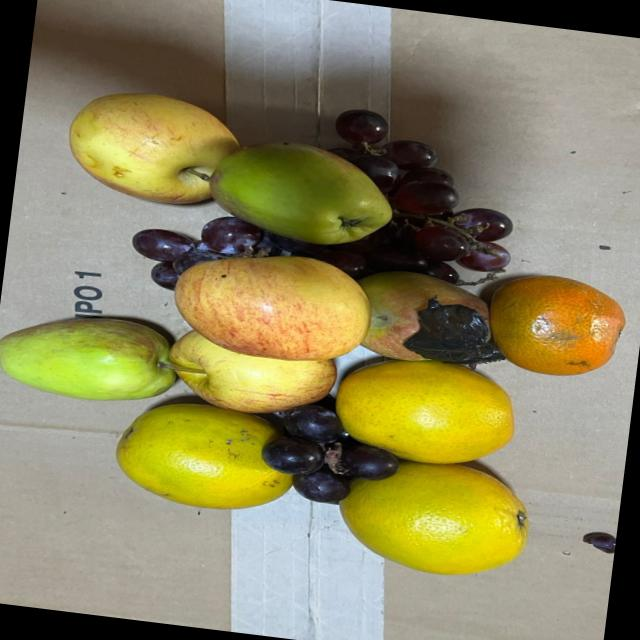bolsa_negra: (403, 295, 515, 367)
